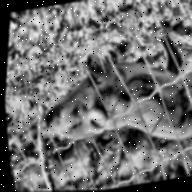boar: (27, 17, 192, 163)
